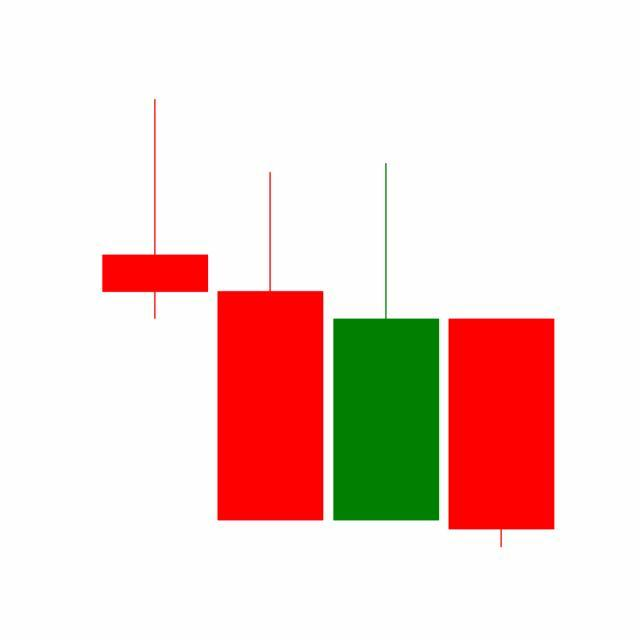Marubozu: (444, 316, 560, 551)
